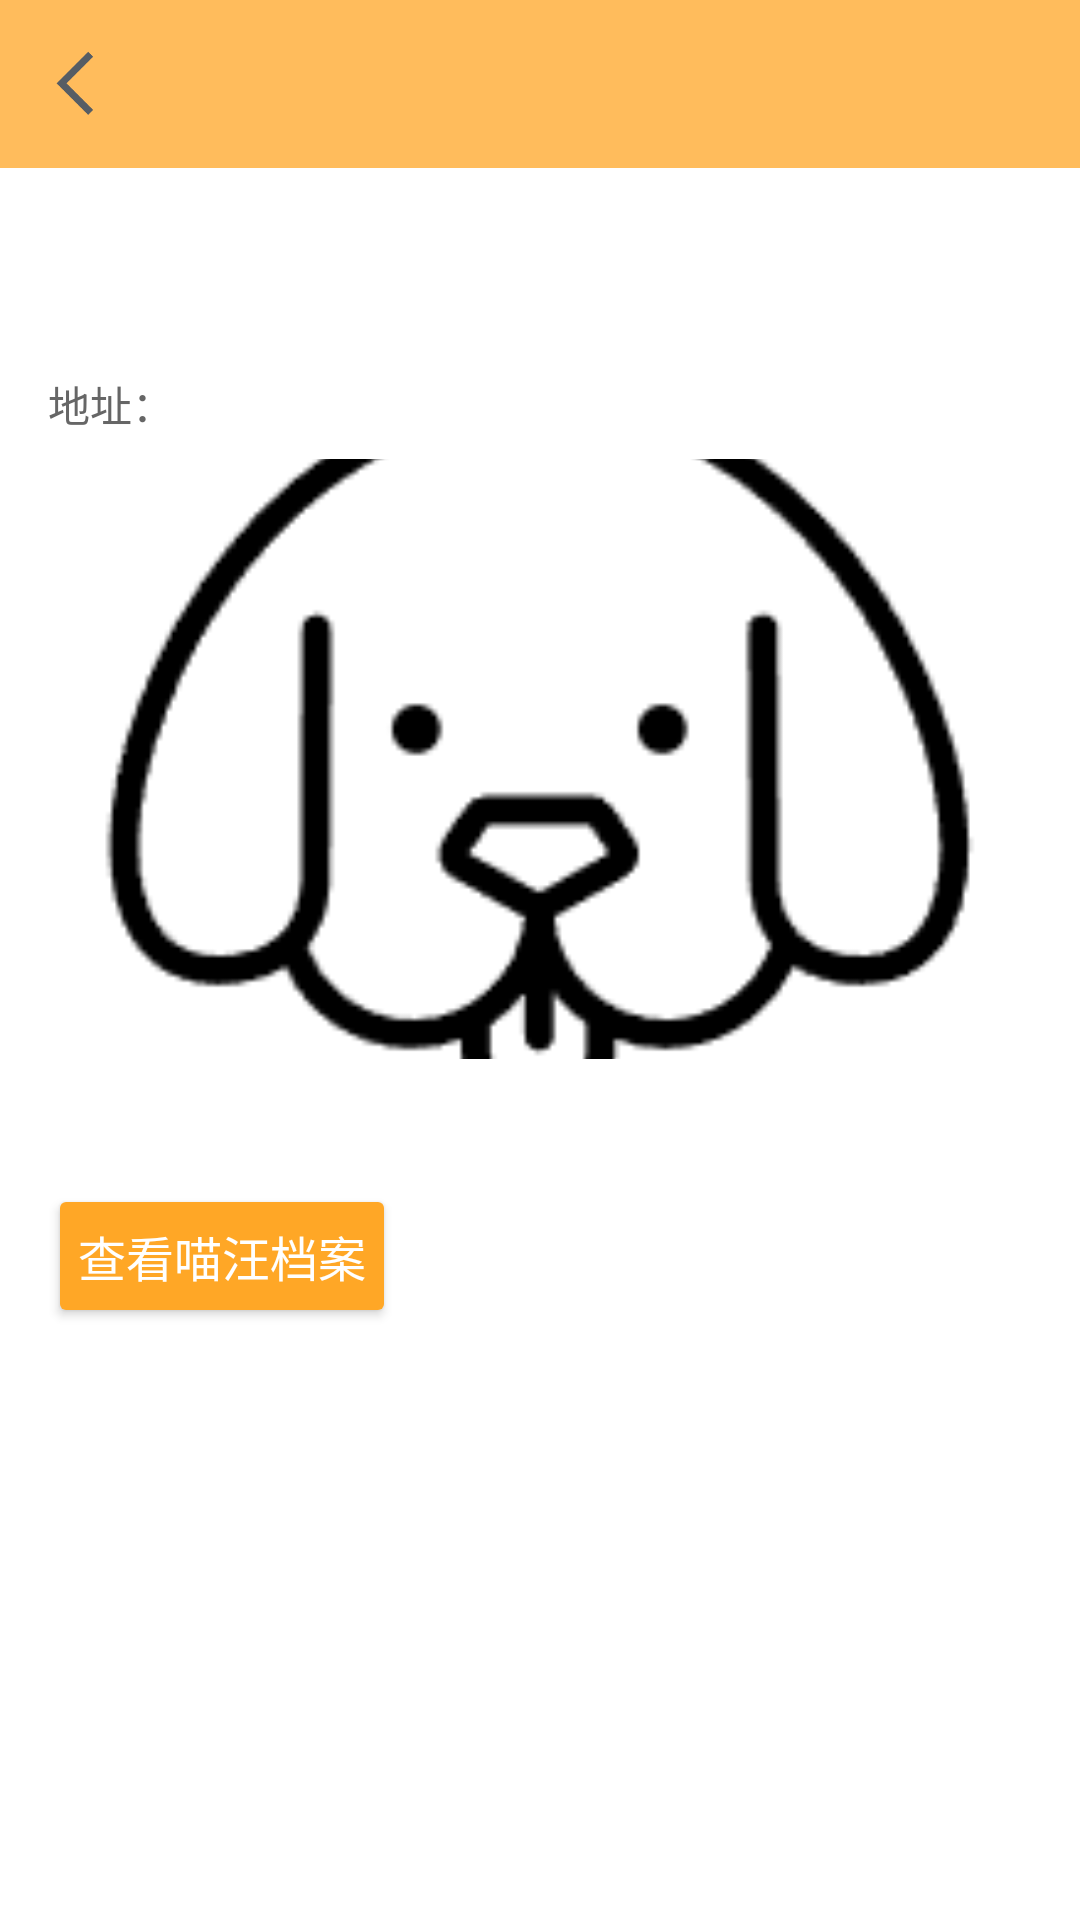

Icons on this 1080 x 1920 Android screen, each with the point to tap as point (x, y):
back: point (74, 83)
